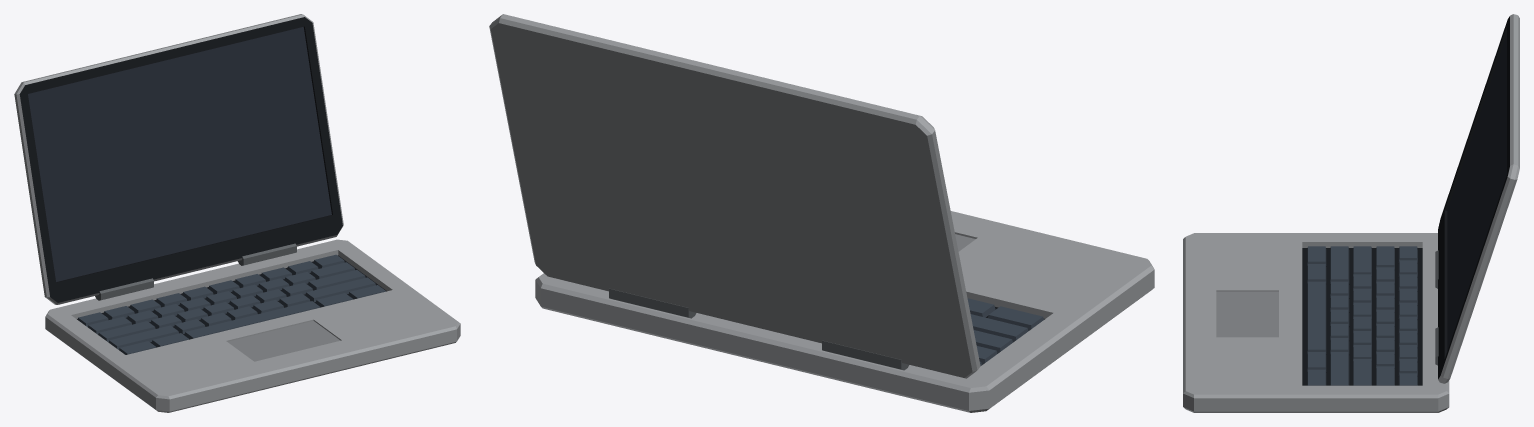
The model's file is laptop.glb.
3 renders of one model, left to right at view 1: azimuth 30°, elevation 25°; view 2: azimuth 150°, elevation 25°; view 3: azimuth 270°, elevation 25°, orthographic. The views are drawn at different scales.
Visible parts, largest first — view 1: lid, object 1; view 2: lid, object 1; view 3: object 1, lid.
Part boxes in pixels (box(x1,y1,x2,y2)): lid: box(14, 14, 343, 304); object 1: box(45, 239, 460, 412); lid: box(489, 14, 980, 378); object 1: box(535, 211, 1154, 412); object 1: box(1183, 233, 1449, 412); lid: box(1438, 14, 1519, 383).
Size of the model in its own units: 0.32 by 0.223 by 0.2782.
